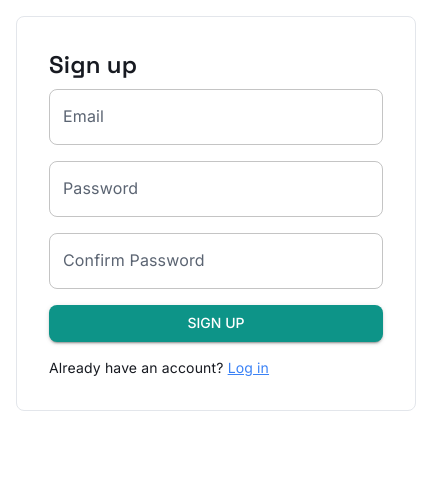
Test: SignupPage › shows a validation error for an invalid email and a too-short password
In the field labelled "Email": (216, 117) [49, 89, 383, 145], type "not-an-email"
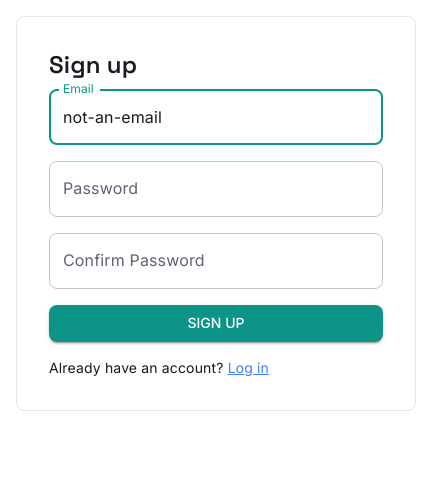
In the password field labelled "Password": (216, 189) [49, 161, 383, 217], type "short"
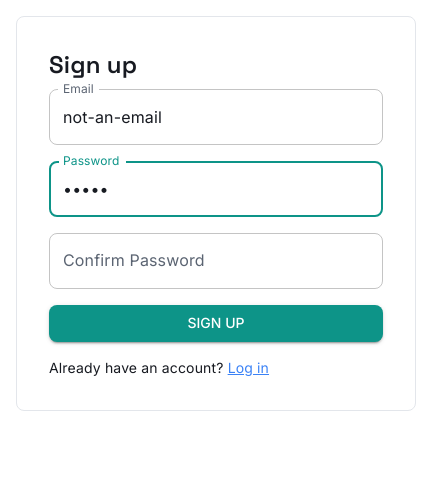
Click the button "Sign up": (216, 324) [49, 305, 383, 342]
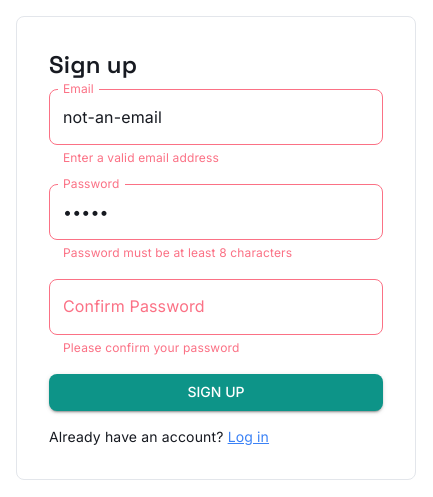
Expected: the text "Enter a valid email address" is shown, [63, 150, 219, 165]
Expected: the text "Password must be at least 8 characters" is shown, [63, 245, 292, 260]
